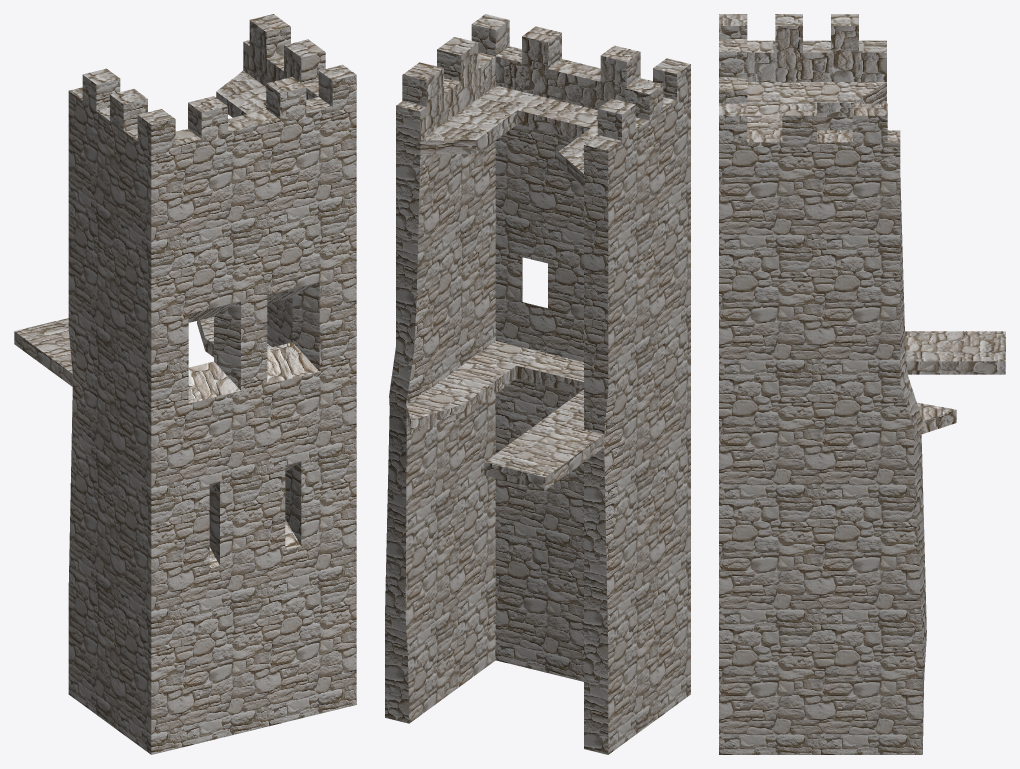
The model's file is tower_3.fbx.
The picture shows the model from 3 angles, left to right: view 1: azimuth 30°, elevation 25°; view 2: azimuth 150°, elevation 25°; view 3: azimuth 270°, elevation 25°; orthographic projection.
Parts seen in each view (by area): view 1: Cube.003; view 2: Cube.003; view 3: Cube.003.
Part boxes in pixels (<box>): Cube.003: <box>14,14,356,754</box>; Cube.003: <box>385,14,690,754</box>; Cube.003: <box>719,14,1005,754</box>.
Bounding box in the file's own units: 542 × 1589 × 646.
1 material, 1 textured.
